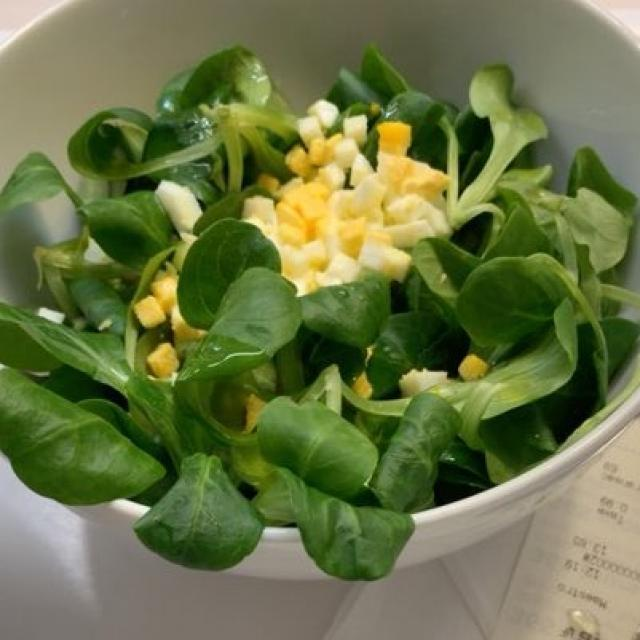egg: (122, 86, 458, 371)
salad: (12, 49, 622, 564)
